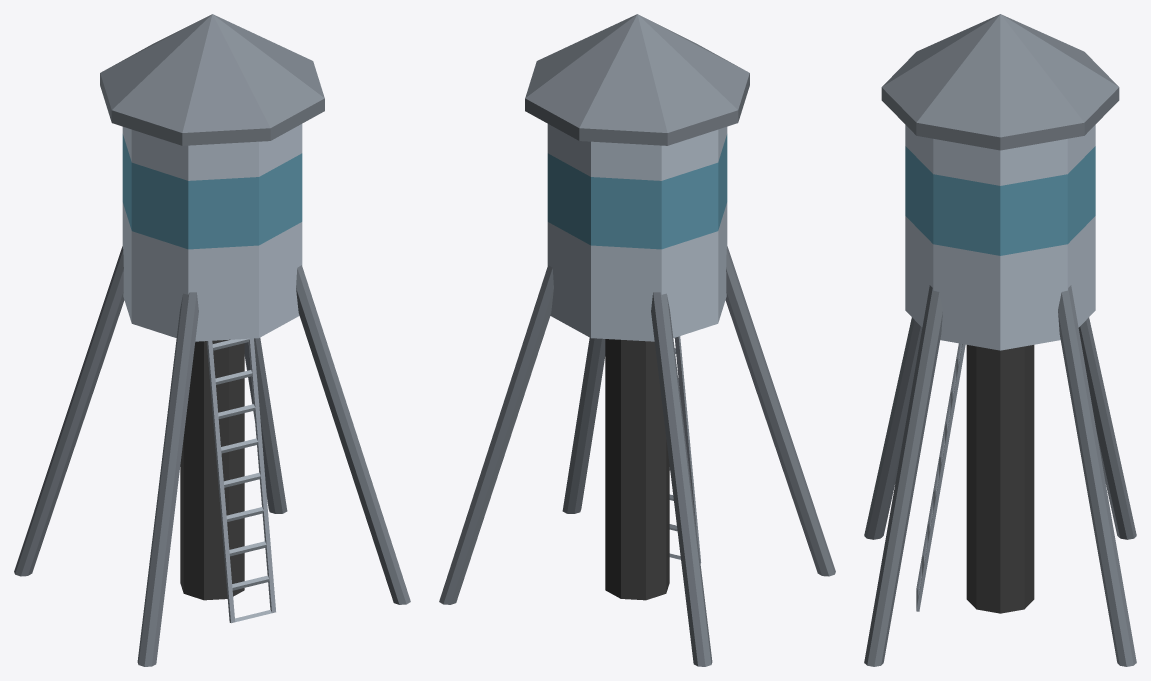
File: Water Tower.fbx
The picture shows the model from 3 angles, left to right: view 1: azimuth 30°, elevation 25°; view 2: azimuth 150°, elevation 25°; view 3: azimuth 270°, elevation 25°; orthographic projection. The views are drawn at different scales.
Parts seen in each view (by area): view 1: Water_Tower; view 2: Water_Tower; view 3: Water_Tower.
Boxes of the visible parts, box(x1,y1,x2,y2) form: Water_Tower: box(14, 14, 410, 666); Water_Tower: box(439, 14, 835, 666); Water_Tower: box(864, 14, 1136, 666).
Size of the model in its own units: 619 by 1251 by 527.
